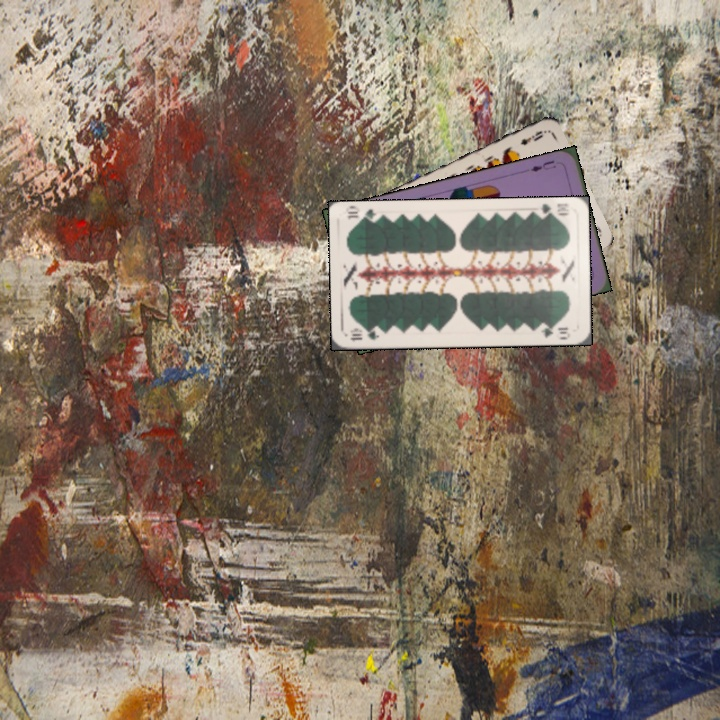E9: (516, 126, 547, 148)
EU: (527, 156, 558, 174)
G10: (536, 200, 572, 220), (346, 325, 382, 343)
